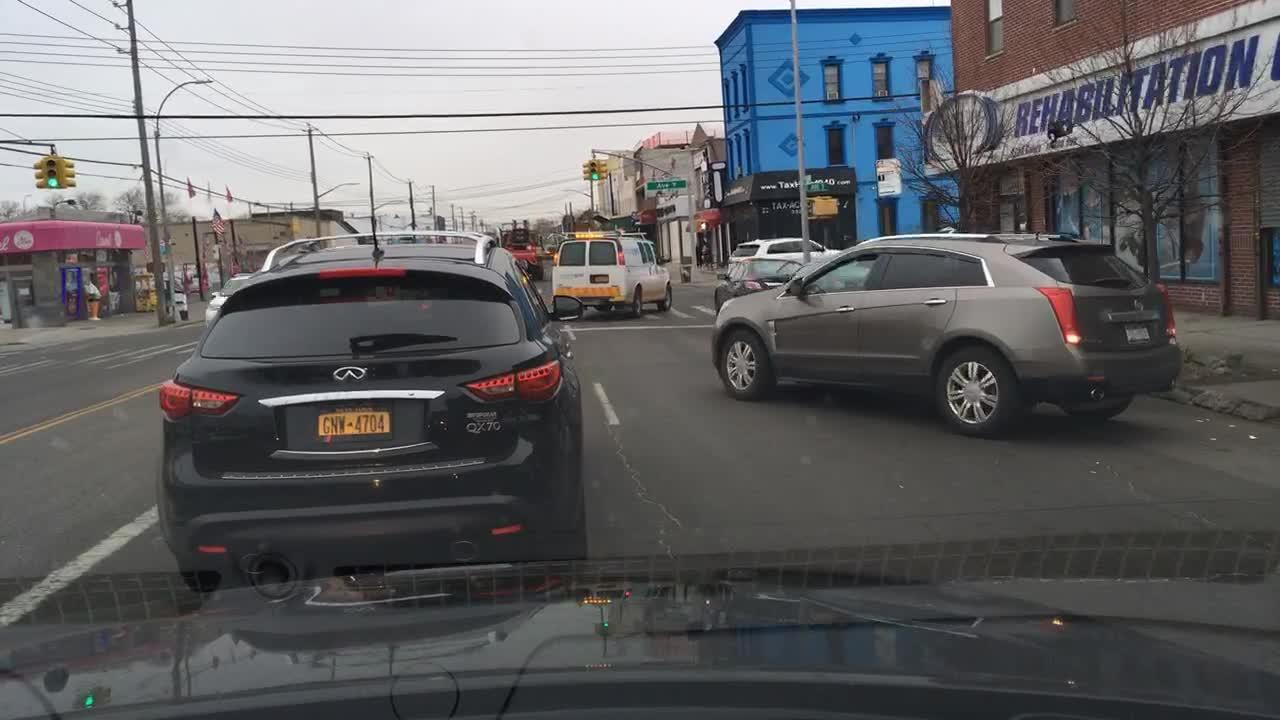Infiniti: (329, 358, 374, 389)
